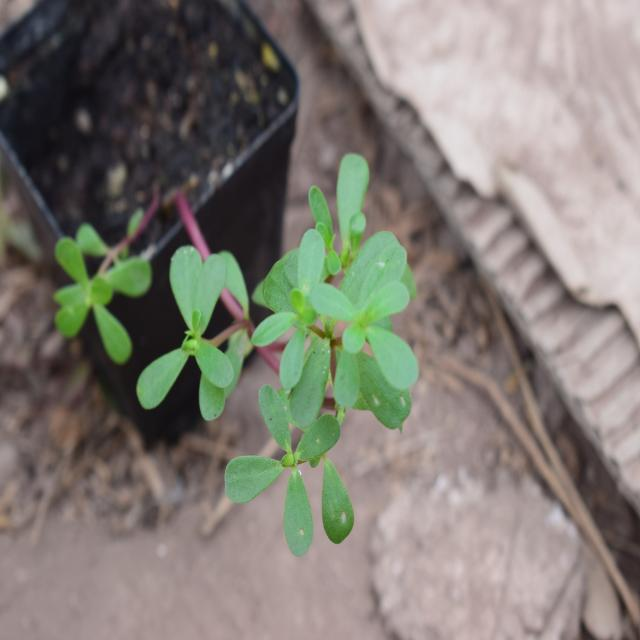purslane: (57, 159, 429, 553)
